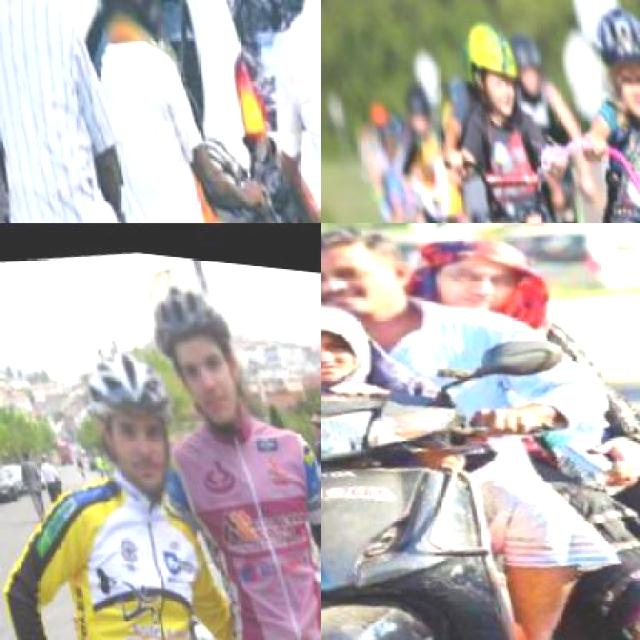With Helmet: (137, 252, 263, 434), (75, 333, 196, 501), (452, 9, 526, 125), (577, 0, 638, 125), (69, 0, 171, 46), (499, 18, 548, 96), (394, 76, 434, 142)
Without Helmet: (400, 223, 549, 325), (320, 223, 429, 334)
